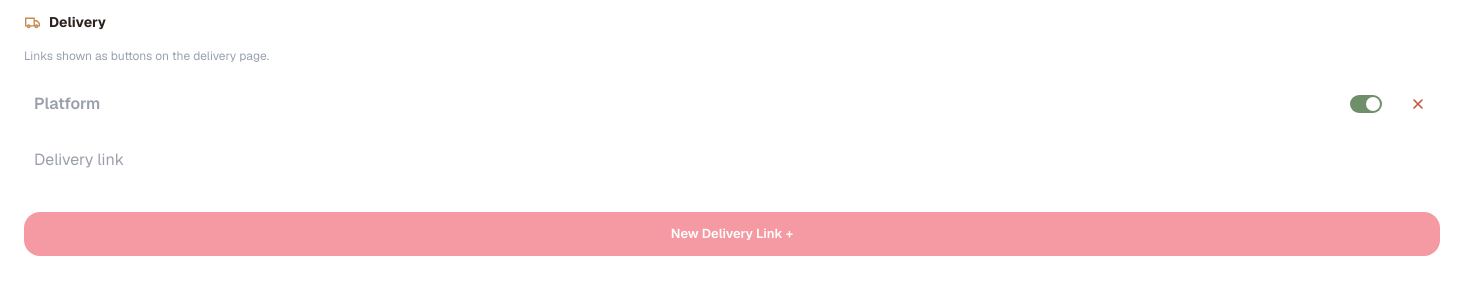
it: admin delivery section › shows a name required error when the URL is entered first
# enter a url without interacting with name field
Type "https://example.com/order" into the field named "Delivery platform link" at [732, 160], box [24,138,1440,182]
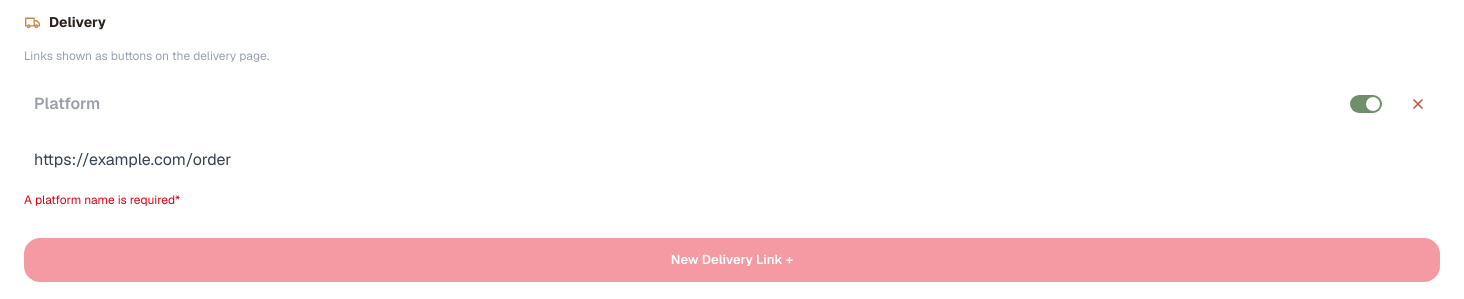
Expected: the text "A platform name is required*" is shown, [24,192,180,208]
